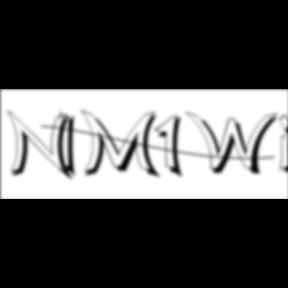1: (154, 114, 188, 182)
M: (80, 108, 164, 181)
N: (7, 109, 77, 183)
W: (186, 110, 284, 178)
l: (60, 108, 83, 182)
